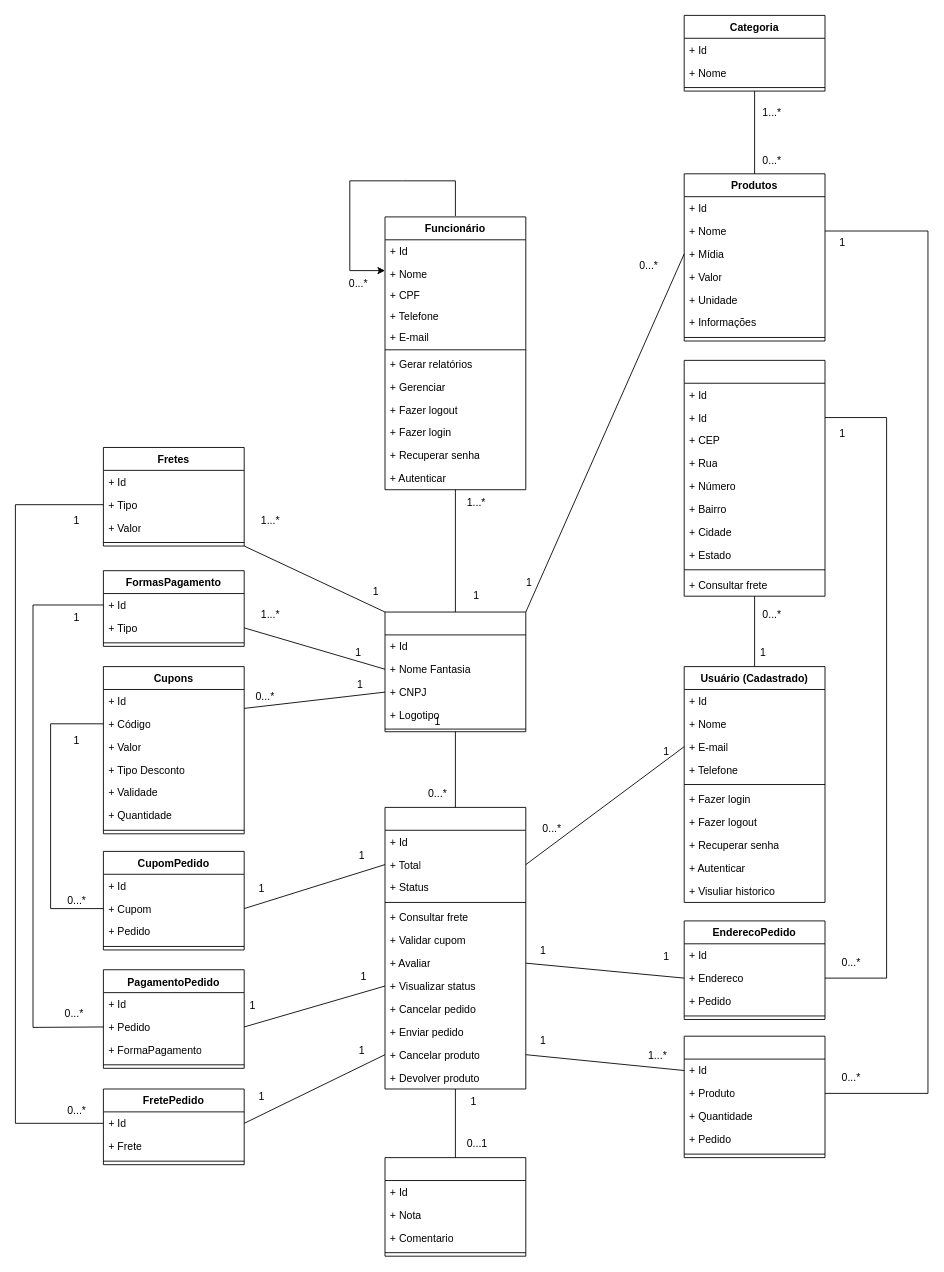
Image size: 944x1272. Some labels were removed from this diagram. The shapes that lost their labels are listed below. From the top down, each one's box as (x1, y1, x2, y2) in pixels, then its label:
(683, 359, 825, 596): Endereços
(384, 611, 526, 732): Loja
(384, 807, 526, 1089): Pedidos
(683, 1035, 825, 1158): ProdutoPedido
(384, 1157, 526, 1256): Avaliacao
